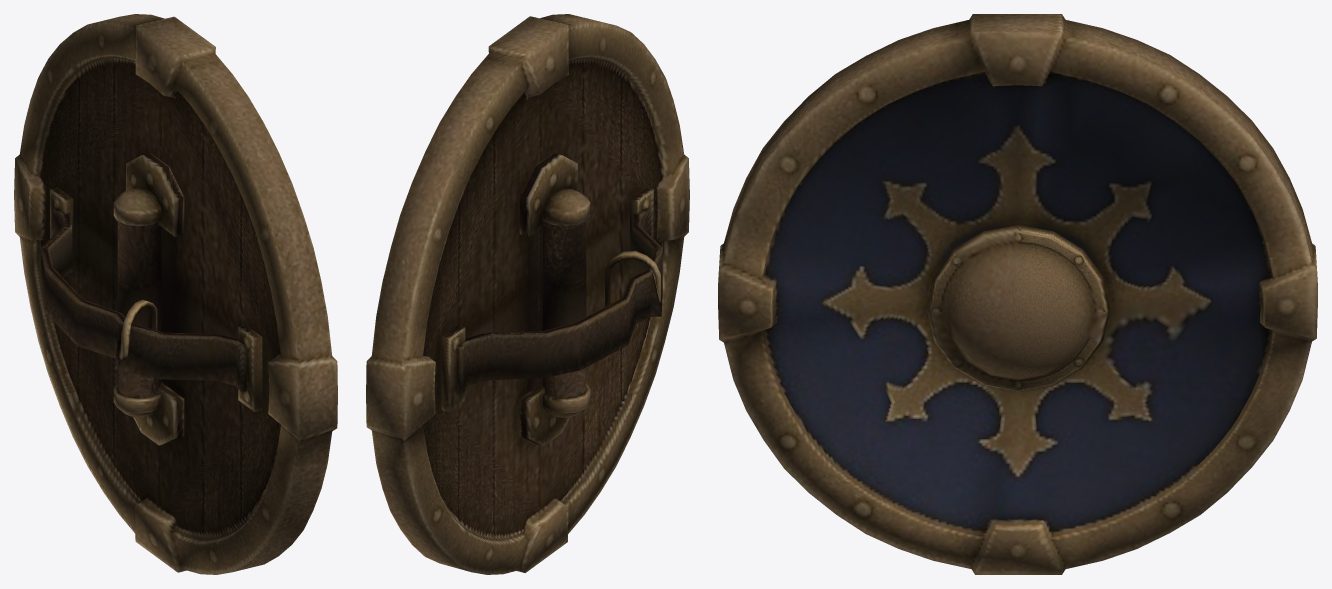
The model's file is tripo_convert_d6b5487e-35d2-45ee-9790-e0b45b824eef.fbx.
3 renders of one model, left to right at view 1: azimuth 30°, elevation 25°; view 2: azimuth 150°, elevation 25°; view 3: azimuth 270°, elevation 25°, orthographic. The views are drawn at different scales.
Visible parts, largest first — view 1: tripo_node_d6b5487e; view 2: tripo_node_d6b5487e; view 3: tripo_node_d6b5487e.
Part boxes in pixels (x1,y1,x2,y2): tripo_node_d6b5487e: (14,14,337,574); tripo_node_d6b5487e: (366,14,689,574); tripo_node_d6b5487e: (718,14,1317,574).
Size of the model in its own units: 0.3379 by 0.9941 by 0.998.
